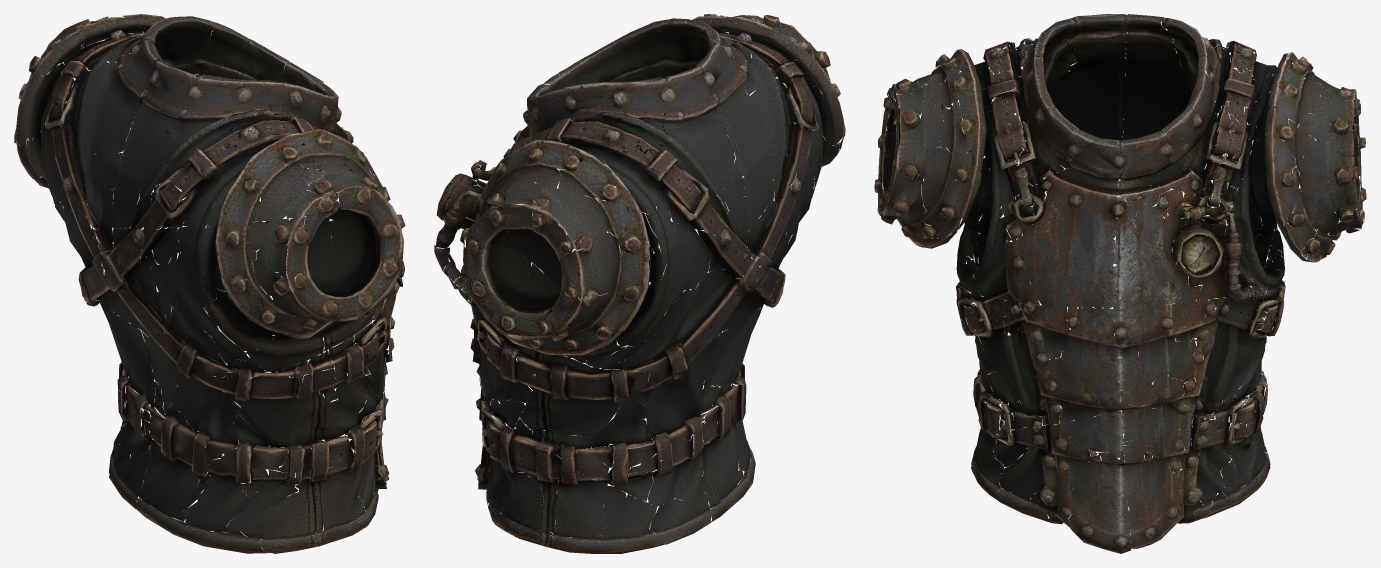
File: a_sluice_cuirass.glb
3 views of the same model, side by side, from view 1: azimuth 30°, elevation 25°; view 2: azimuth 150°, elevation 25°; view 3: azimuth 270°, elevation 25° (orthographic). The views are drawn at different scales.
Visible parts, largest first — view 1: tripo_node_2c596889-d8e8-4e9b-8757-3bf3b76ae3bd; view 2: tripo_node_2c596889-d8e8-4e9b-8757-3bf3b76ae3bd; view 3: tripo_node_2c596889-d8e8-4e9b-8757-3bf3b76ae3bd.
Boxes of the visible parts, x1,y1,x2,y2 form: tripo_node_2c596889-d8e8-4e9b-8757-3bf3b76ae3bd: (14,14,405,553); tripo_node_2c596889-d8e8-4e9b-8757-3bf3b76ae3bd: (434,14,845,553); tripo_node_2c596889-d8e8-4e9b-8757-3bf3b76ae3bd: (874,14,1366,553).
Size of the model in its own units: 0.6248 by 0.9726 by 0.9798.
Materials: 1 (1 with a texture image).
